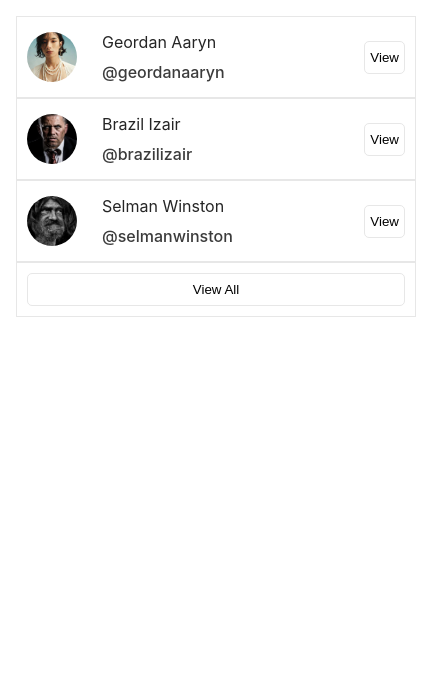
it: Test App › should show all users when click view all
Step 1. Click the button with test id "viewAllButton" → x=216, y=290, box x1=27 y1=273 x2=405 y2=306
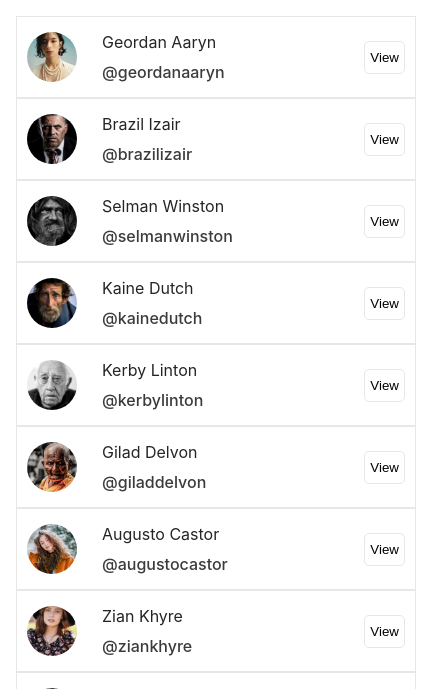
Expected: the number of elements with class "name" is 10
